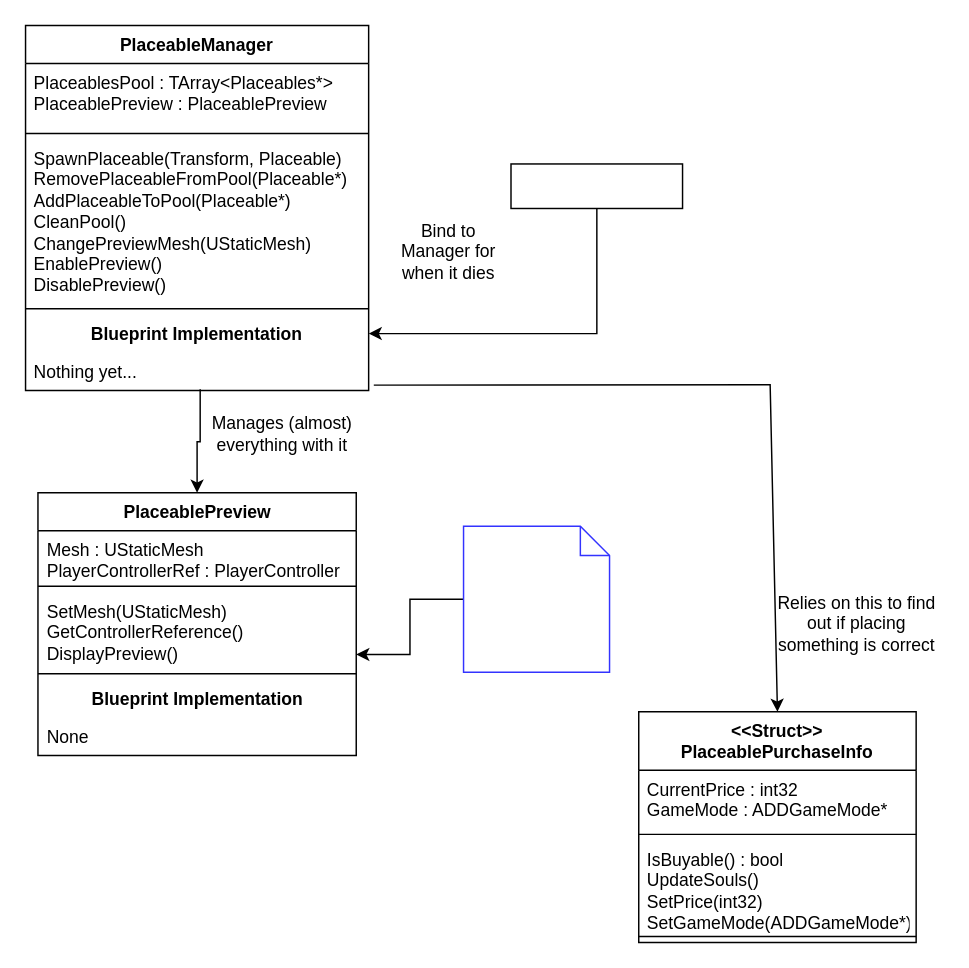
Image size: 969x968. Some labels were removed from this diagram. Each missing label, with the box of its shape:
Placeable: (510, 162, 683, 208)
This is called in Tick(). Only happens if the preview is enabled: (462, 525, 610, 672)
